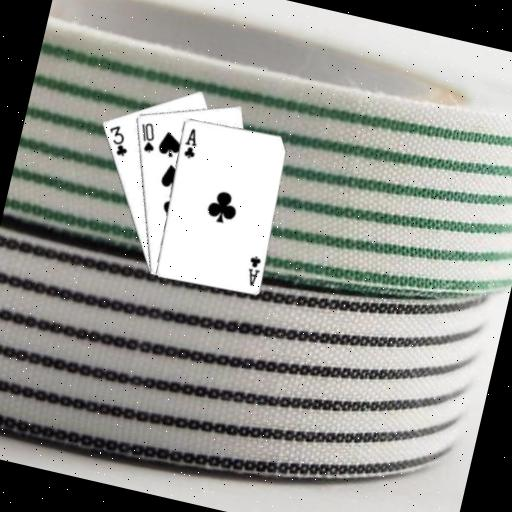10S: (132, 118, 161, 156)
3C: (101, 120, 134, 159)
AC: (241, 251, 265, 289), (178, 124, 202, 161)
